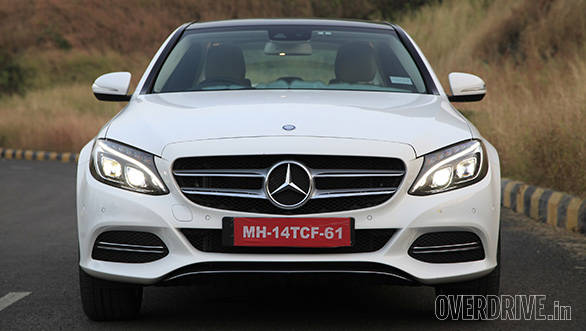number_plate: (219, 212, 359, 253)
